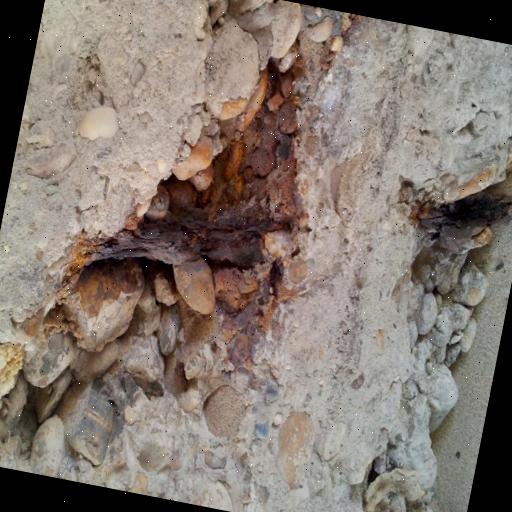spalling: (18, 38, 323, 392)
